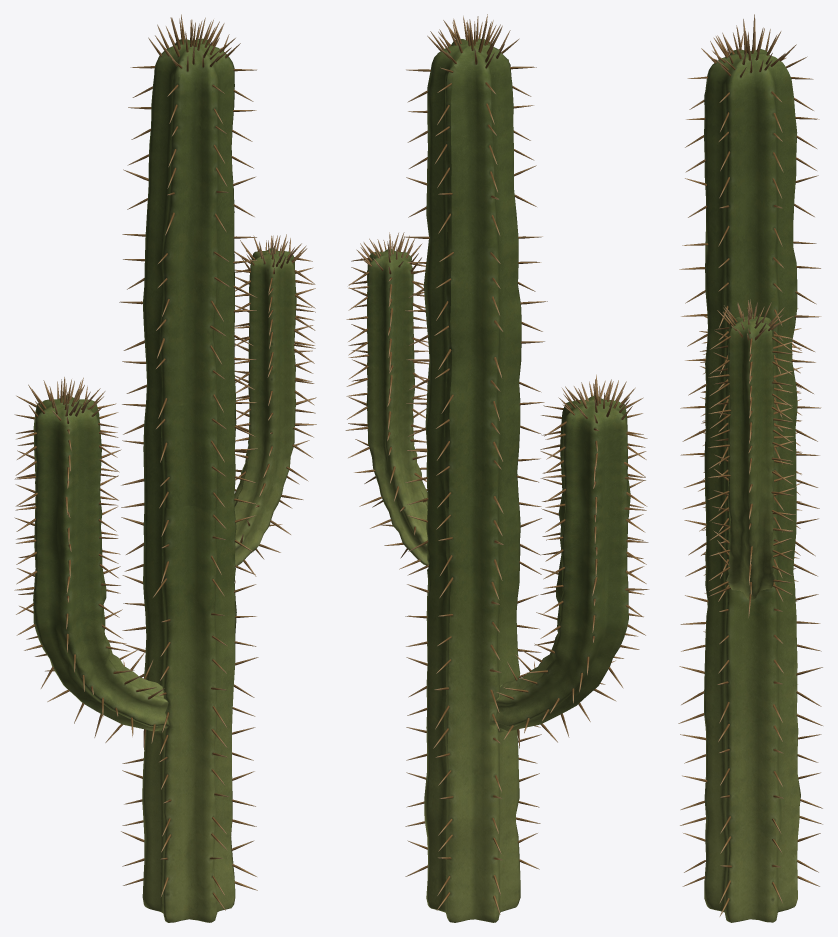
File: Cactus.obj
3 renders of one model, left to right at view 1: azimuth 30°, elevation 25°; view 2: azimuth 150°, elevation 25°; view 3: azimuth 270°, elevation 25°, orthographic.
Parts seen in each view (by area): view 1: Object_0; view 2: Object_0; view 3: Object_0.
Part boxes in pixels (x1=…): Object_0: x1=14, y1=14, x2=316, y2=922; Object_0: x1=345, y1=14, x2=649, y2=922; Object_0: x1=678, y1=14, x2=822, y2=922.
Size of the model in its own units: 2.44 by 6.87 by 1.02.
1 material, 1 textured.
